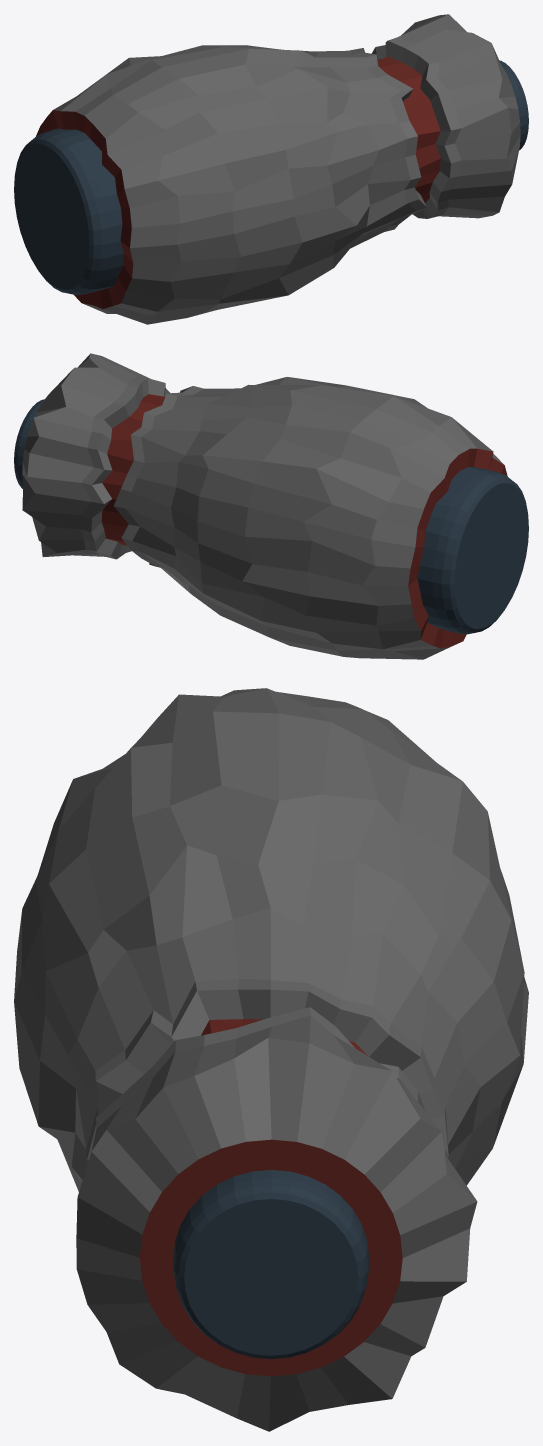
File: RockLower.fbx
3 views of the same model, one above another, from view 1: azimuth 30°, elevation 25°; view 2: azimuth 150°, elevation 25°; view 3: azimuth 270°, elevation 25° (orthographic). The views are drawn at different scales.
Parts seen in each view (by area): view 1: Cylinder.013; view 2: Cylinder.013; view 3: Cylinder.013.
Part boxes in pixels (x1,y1,x2,y2): Cylinder.013: (14,14,528,324); Cylinder.013: (14,353,528,659); Cylinder.013: (14,688,528,1431).
Size of the model in its own units: 75.27 by 38.47 by 37.57.
